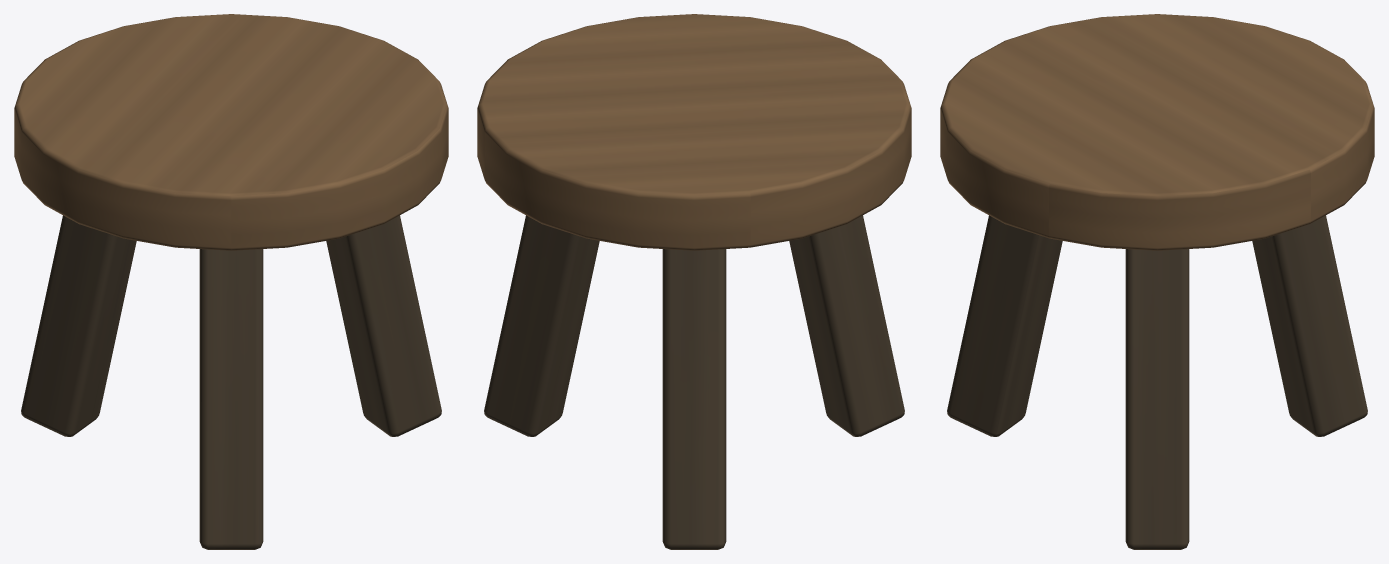
The model's file is stool.glb.
3 views of the same model, side by side, from view 1: azimuth 30°, elevation 25°; view 2: azimuth 150°, elevation 25°; view 3: azimuth 270°, elevation 25° (orthographic).
Visible parts, largest first — view 1: Wooden Stool; view 2: Wooden Stool; view 3: Wooden Stool.
Boxes of the visible parts, box(x1,y1,x2,y2) form: Wooden Stool: box(14, 14, 448, 549); Wooden Stool: box(477, 14, 911, 549); Wooden Stool: box(940, 14, 1374, 549).
Bounding box in the file's own units: 0.4924 × 0.4404 × 0.48.
2 materials, 2 textured.
